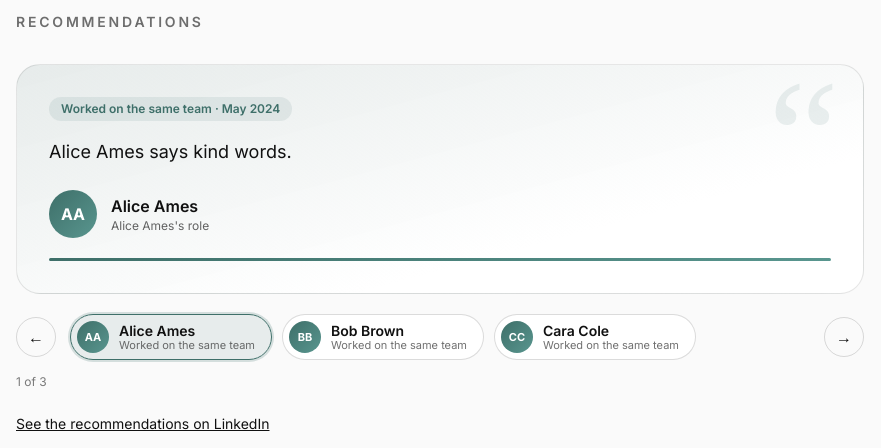
Scenario: Recommendations › steps with the arrow buttons and wraps around at both ends
Click the button named "Previous recommendation".
click(36, 337)  # box [16, 317, 56, 357]
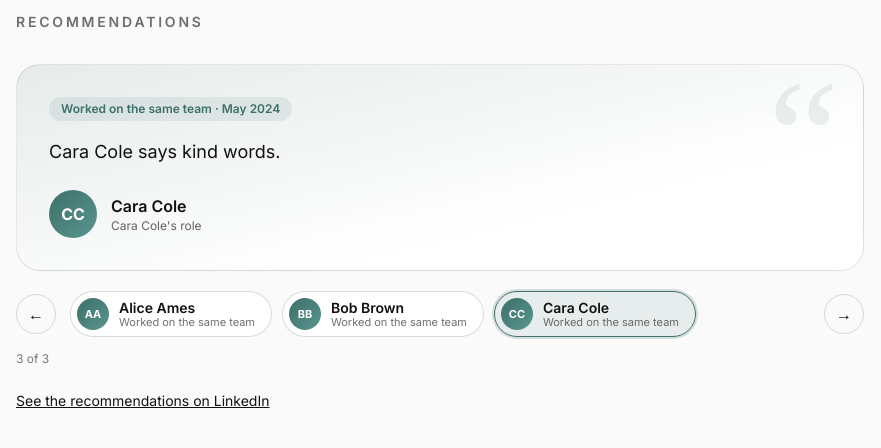
Expected: the text "3 of 3" is shown, [16, 351, 49, 366]
Click the button named "Next recommendation".
click(844, 314)  # box [824, 294, 864, 334]
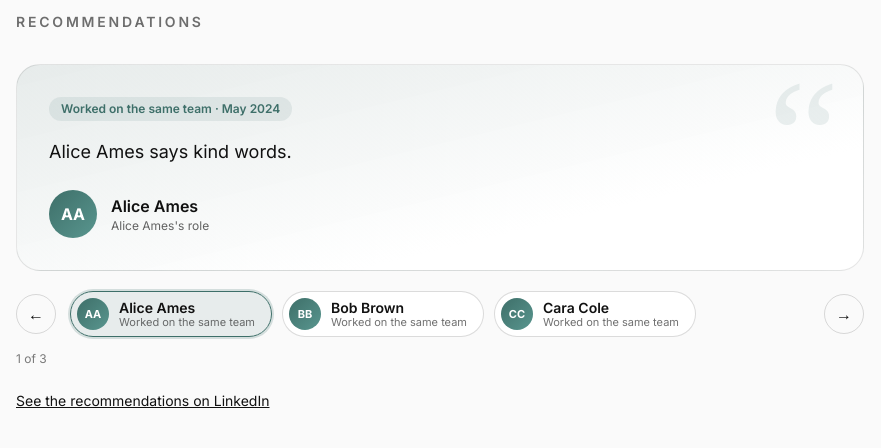
Expected: the text "1 of 3" is shown, [16, 351, 47, 366]
